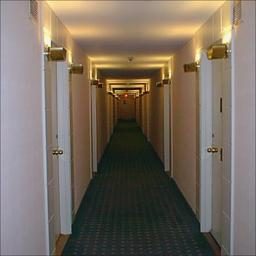Puerta: (202, 51, 230, 244), (46, 45, 65, 245)
